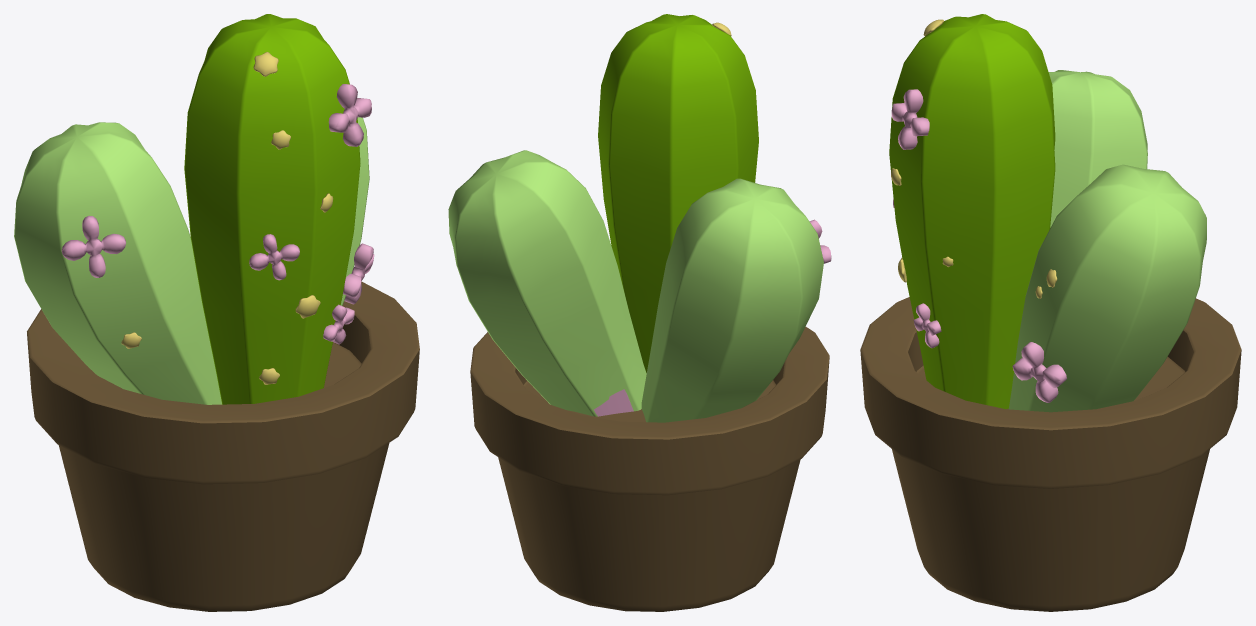
3 renders of one model, left to right at view 1: azimuth 30°, elevation 25°; view 2: azimuth 150°, elevation 25°; view 3: azimuth 270°, elevation 25°, orthographic. The views are drawn at different scales.
Visible parts, largest first — view 1: part1_lv11_brown, part1_lv11_green, part1_lv11_flatgreen, part1_lv11_pink, part1_lv11_yellow; view 2: part1_lv11_flatgreen, part1_lv11_brown, part1_lv11_green, part2_lv11_pink; view 3: part1_lv11_brown, part1_lv11_green, part1_lv11_flatgreen, part1_lv11_pink, part1_lv11_yellow.
Boxes of the visible parts, x1,y1,x2,y2 form: part1_lv11_brown: (27, 281, 419, 611); part1_lv11_green: (184, 14, 360, 404); part1_lv11_flatgreen: (14, 117, 369, 404); part1_lv11_pink: (61, 84, 374, 344); part1_lv11_yellow: (121, 52, 333, 384); part1_lv11_flatgreen: (448, 150, 823, 422); part1_lv11_brown: (470, 326, 829, 611); part1_lv11_green: (598, 14, 758, 372); part2_lv11_pink: (594, 389, 633, 416); part1_lv11_brown: (860, 297, 1241, 611); part1_lv11_green: (889, 14, 1055, 409); part1_lv11_flatgreen: (1008, 70, 1206, 412); part1_lv11_pink: (891, 89, 1066, 402); part1_lv11_yellow: (891, 19, 1057, 298).
Bounding box in the file's own units: 21.55 × 32.01 × 20.51.
